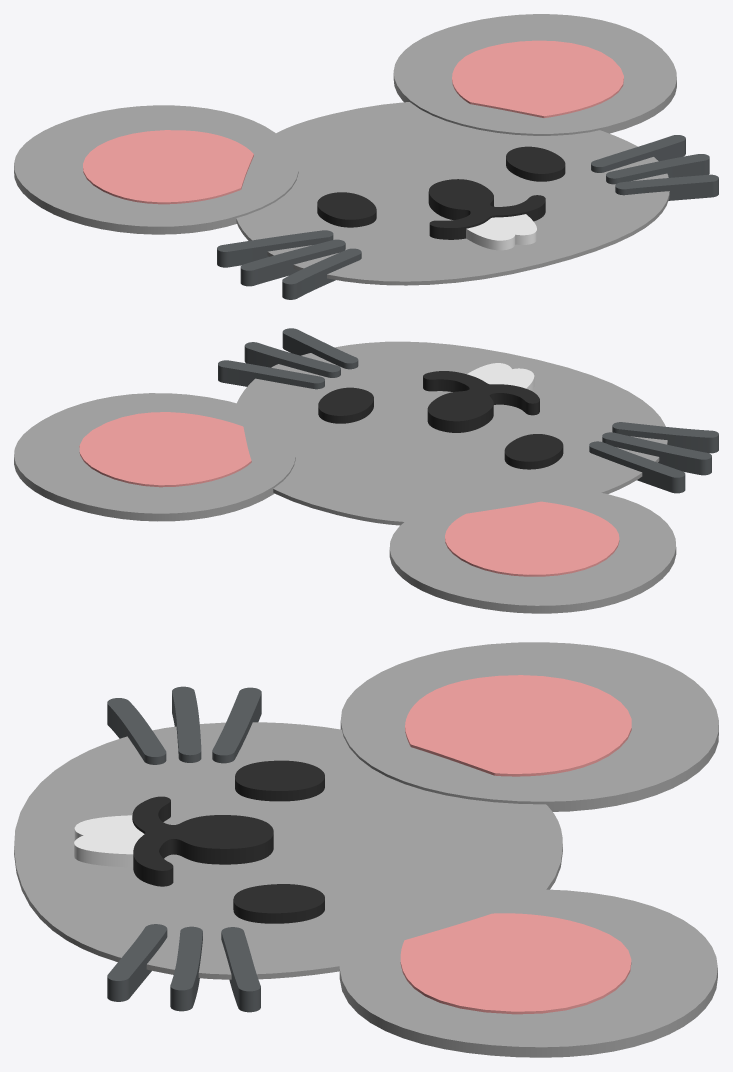
Rendered from emoji_u1f42d.glb.
3 views of the same model, one above another, from view 1: azimuth 30°, elevation 25°; view 2: azimuth 150°, elevation 25°; view 3: azimuth 270°, elevation 25° (orthographic). The views are drawn at different scales.
Visible parts, largest first — view 1: emoji_u1f42d; view 2: emoji_u1f42d; view 3: emoji_u1f42d.
Part boxes in pixels (box(x1,y1,x2,y2)): emoji_u1f42d: box(14, 14, 718, 299); emoji_u1f42d: box(14, 328, 718, 613); emoji_u1f42d: box(14, 642, 718, 1057).
Size of the model in its own units: 0.0332 by 0.0014 by 0.0245.
